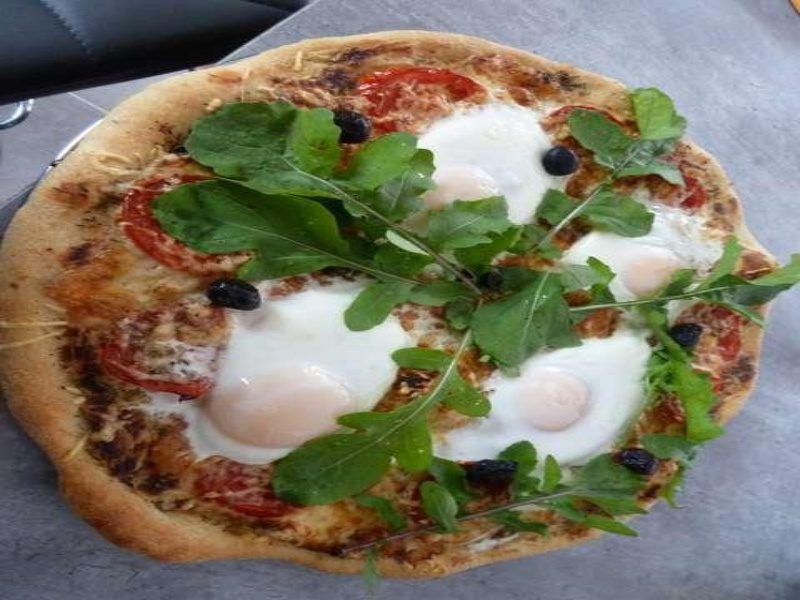oeuf: (220, 337, 358, 458), (507, 365, 602, 439)
